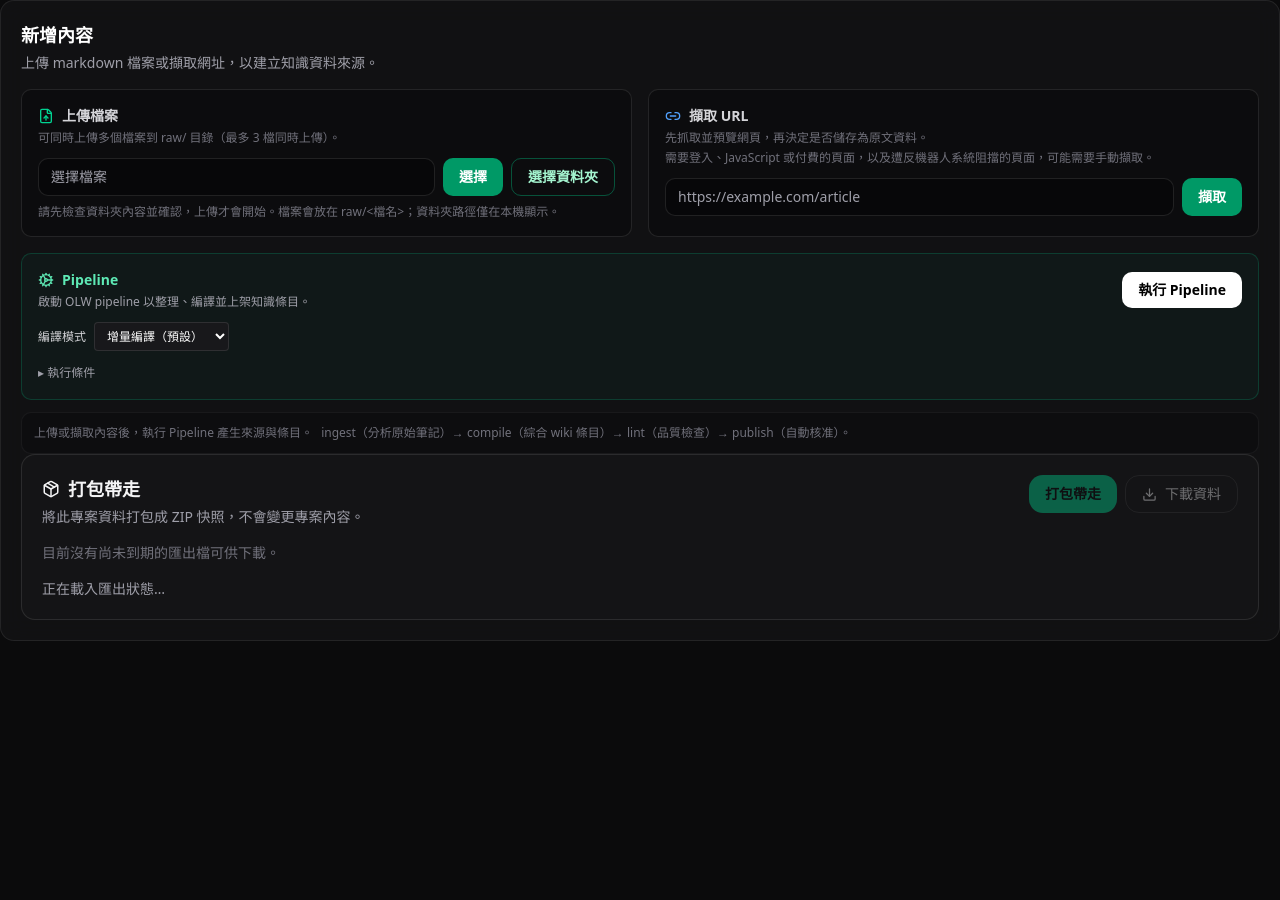
Test: recovers the accepted execution after a poll error without accepting another execution refresh
Select "全面重編譯" in the dropdown with test id "pipeline-compile-mode" at (162, 336), box [94,322,229,351]
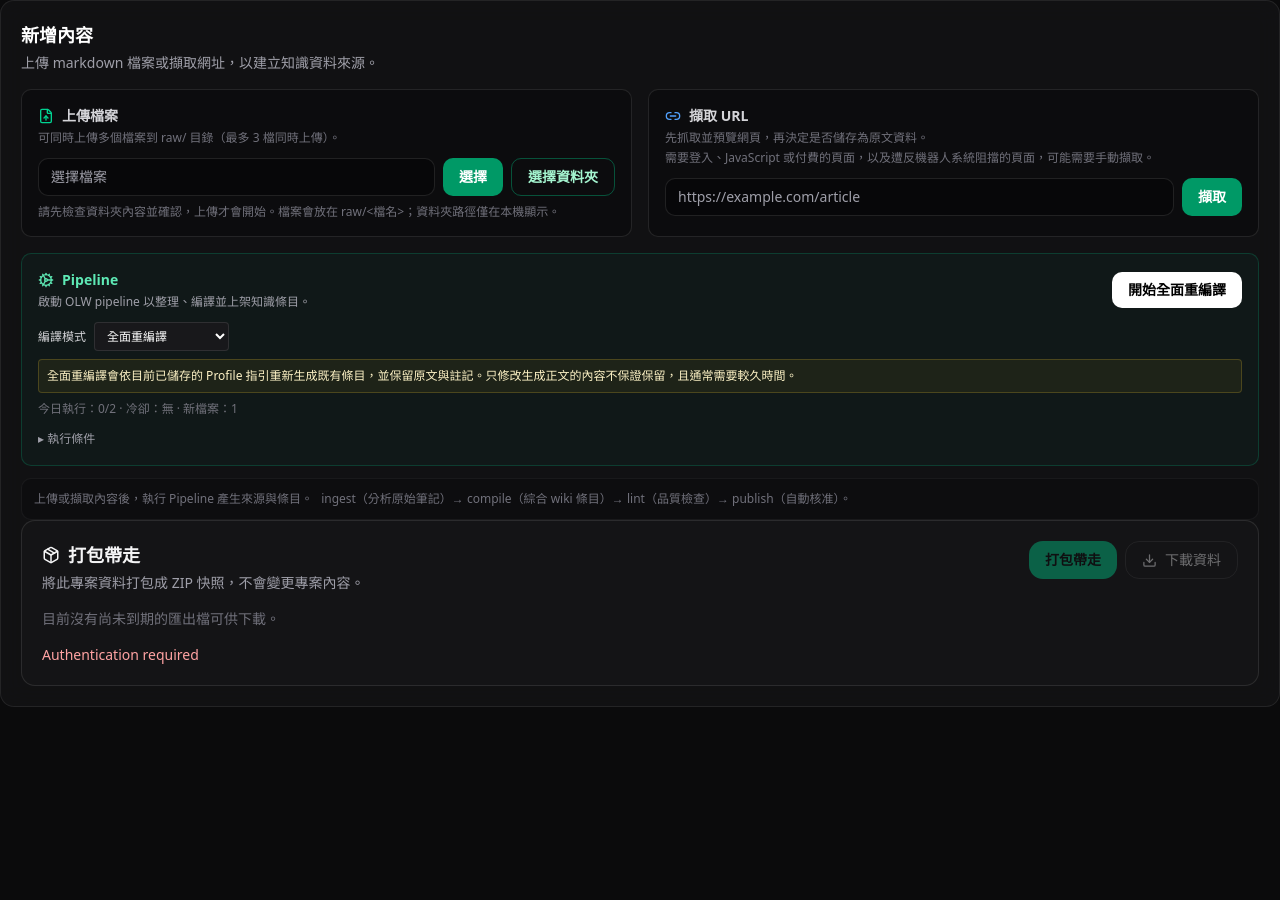
Click the button "開始全面重編譯".
click(1177, 290)  # box [1112,272,1242,308]
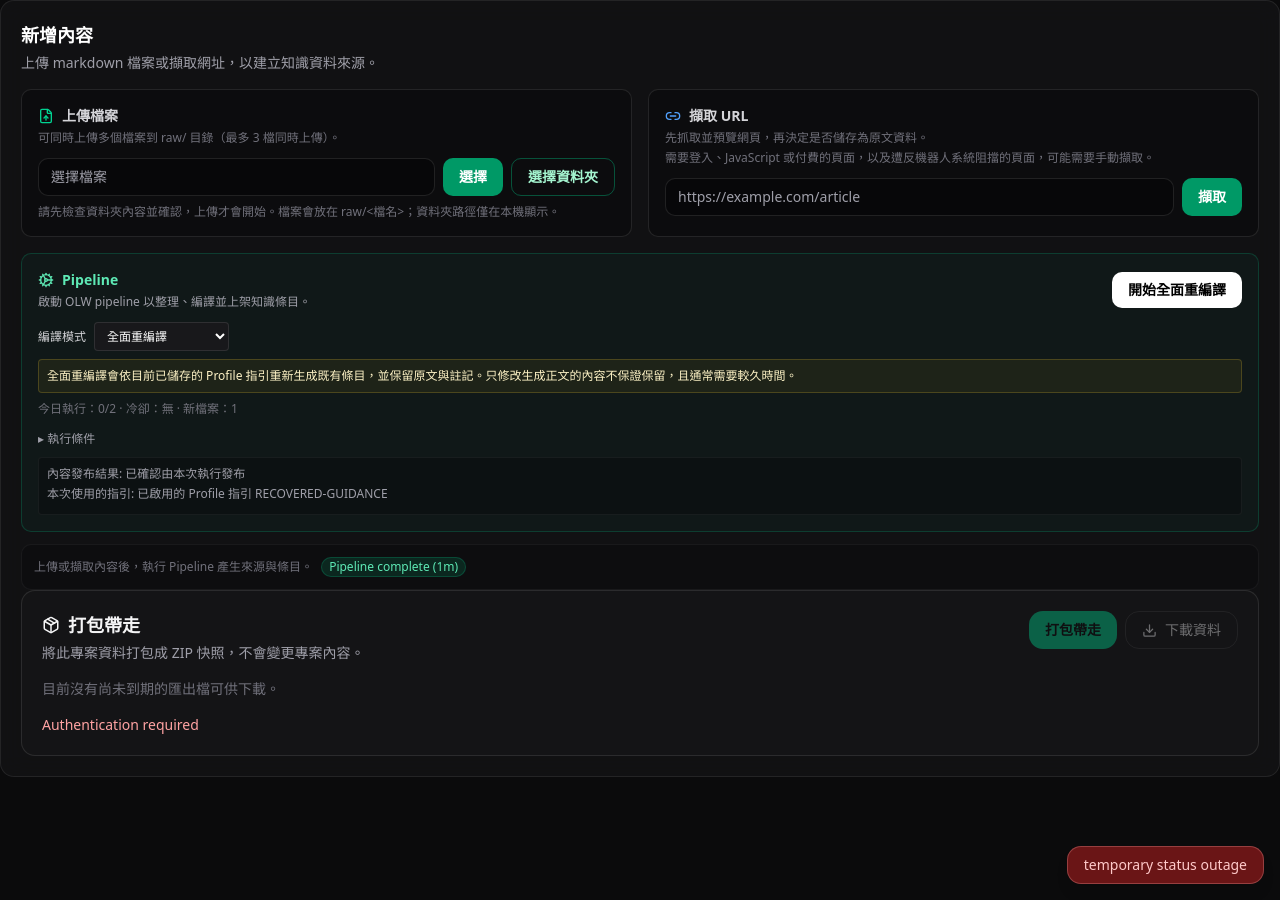
Check: the text "temporary status outage" is shown, box [1067,846,1264,884]
Check: the text "Pipeline complete (1m)" is shown, box [321,557,466,577]
Check: the element with test id "pipeline-full-evidence" shows "已確認由本次執行發布", box [125,465,245,482]
